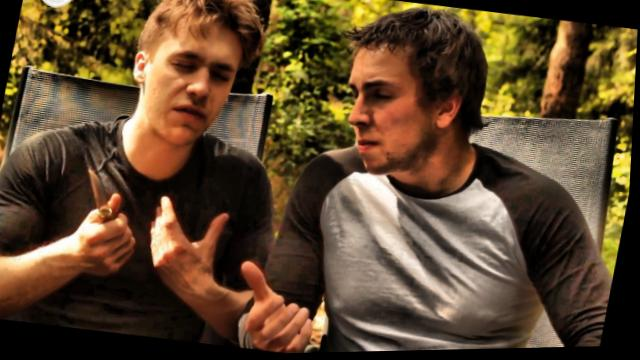knife: (59, 155, 157, 265)
